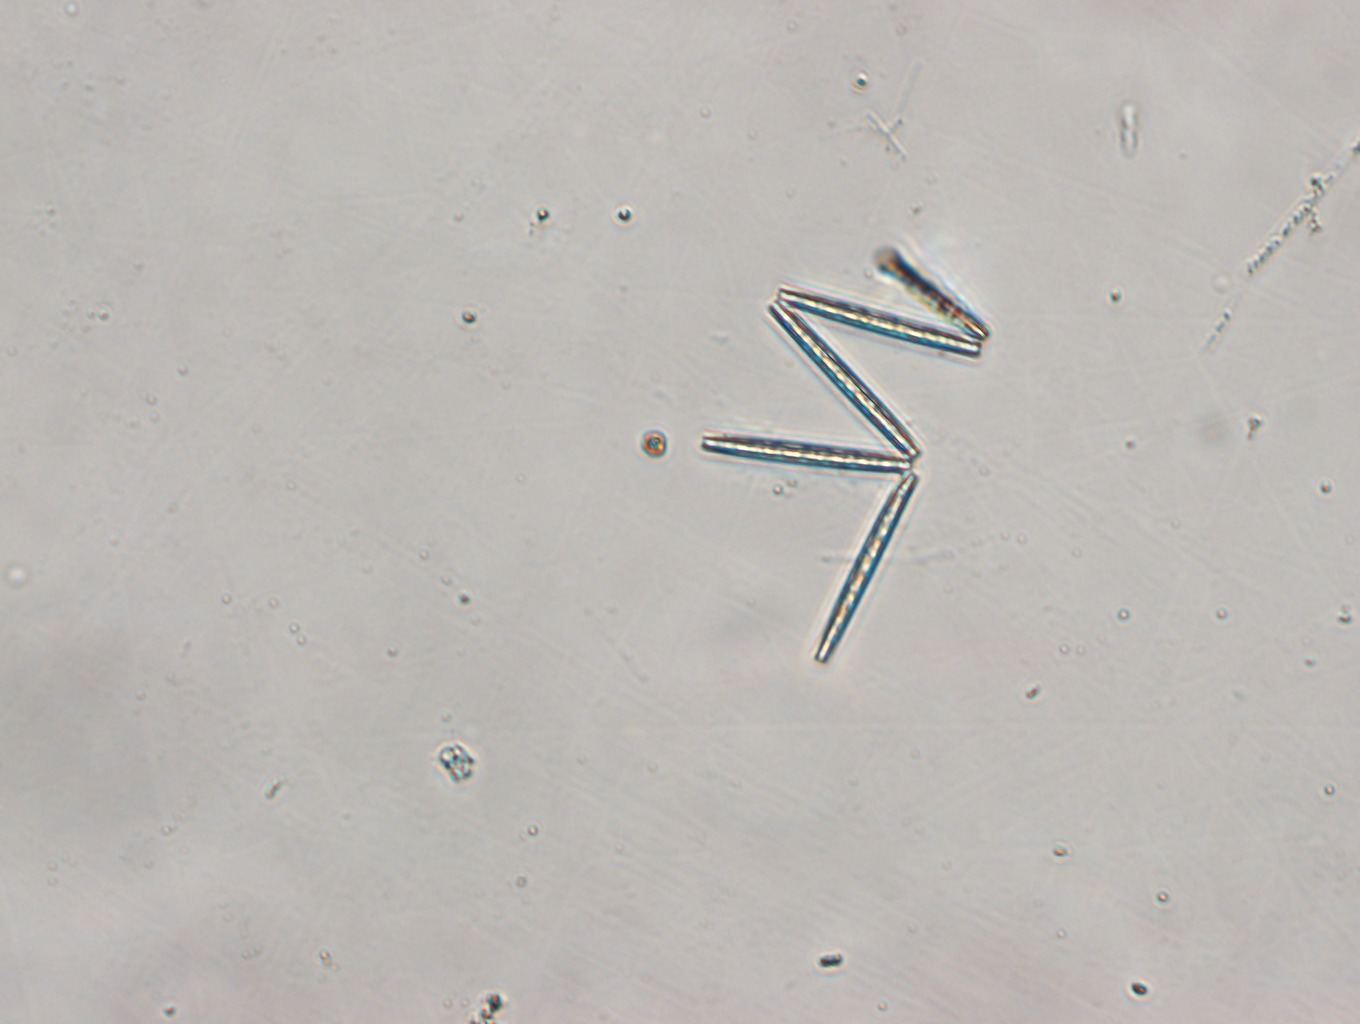thalassionema nitzschioides: (700, 236, 994, 668)
